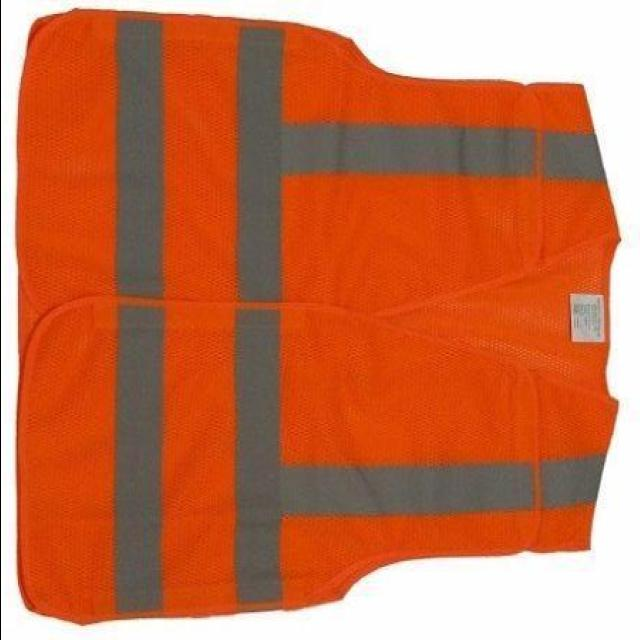jacket: (16, 11, 628, 624)
